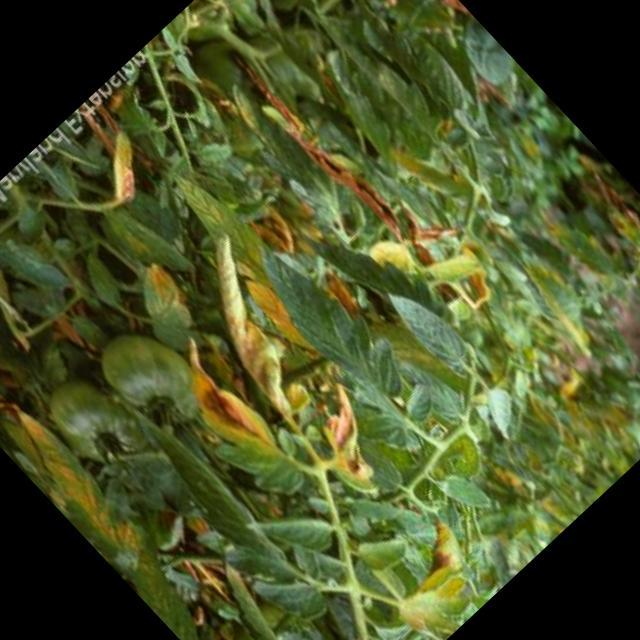Tomato Early blight leaf: (164, 233, 358, 432), (0, 362, 160, 576), (159, 341, 321, 510), (371, 511, 505, 640), (294, 378, 414, 499)
Tomato healthy leaf: (120, 406, 300, 594), (245, 241, 414, 418), (382, 279, 482, 383), (247, 484, 341, 579), (435, 462, 496, 524)
